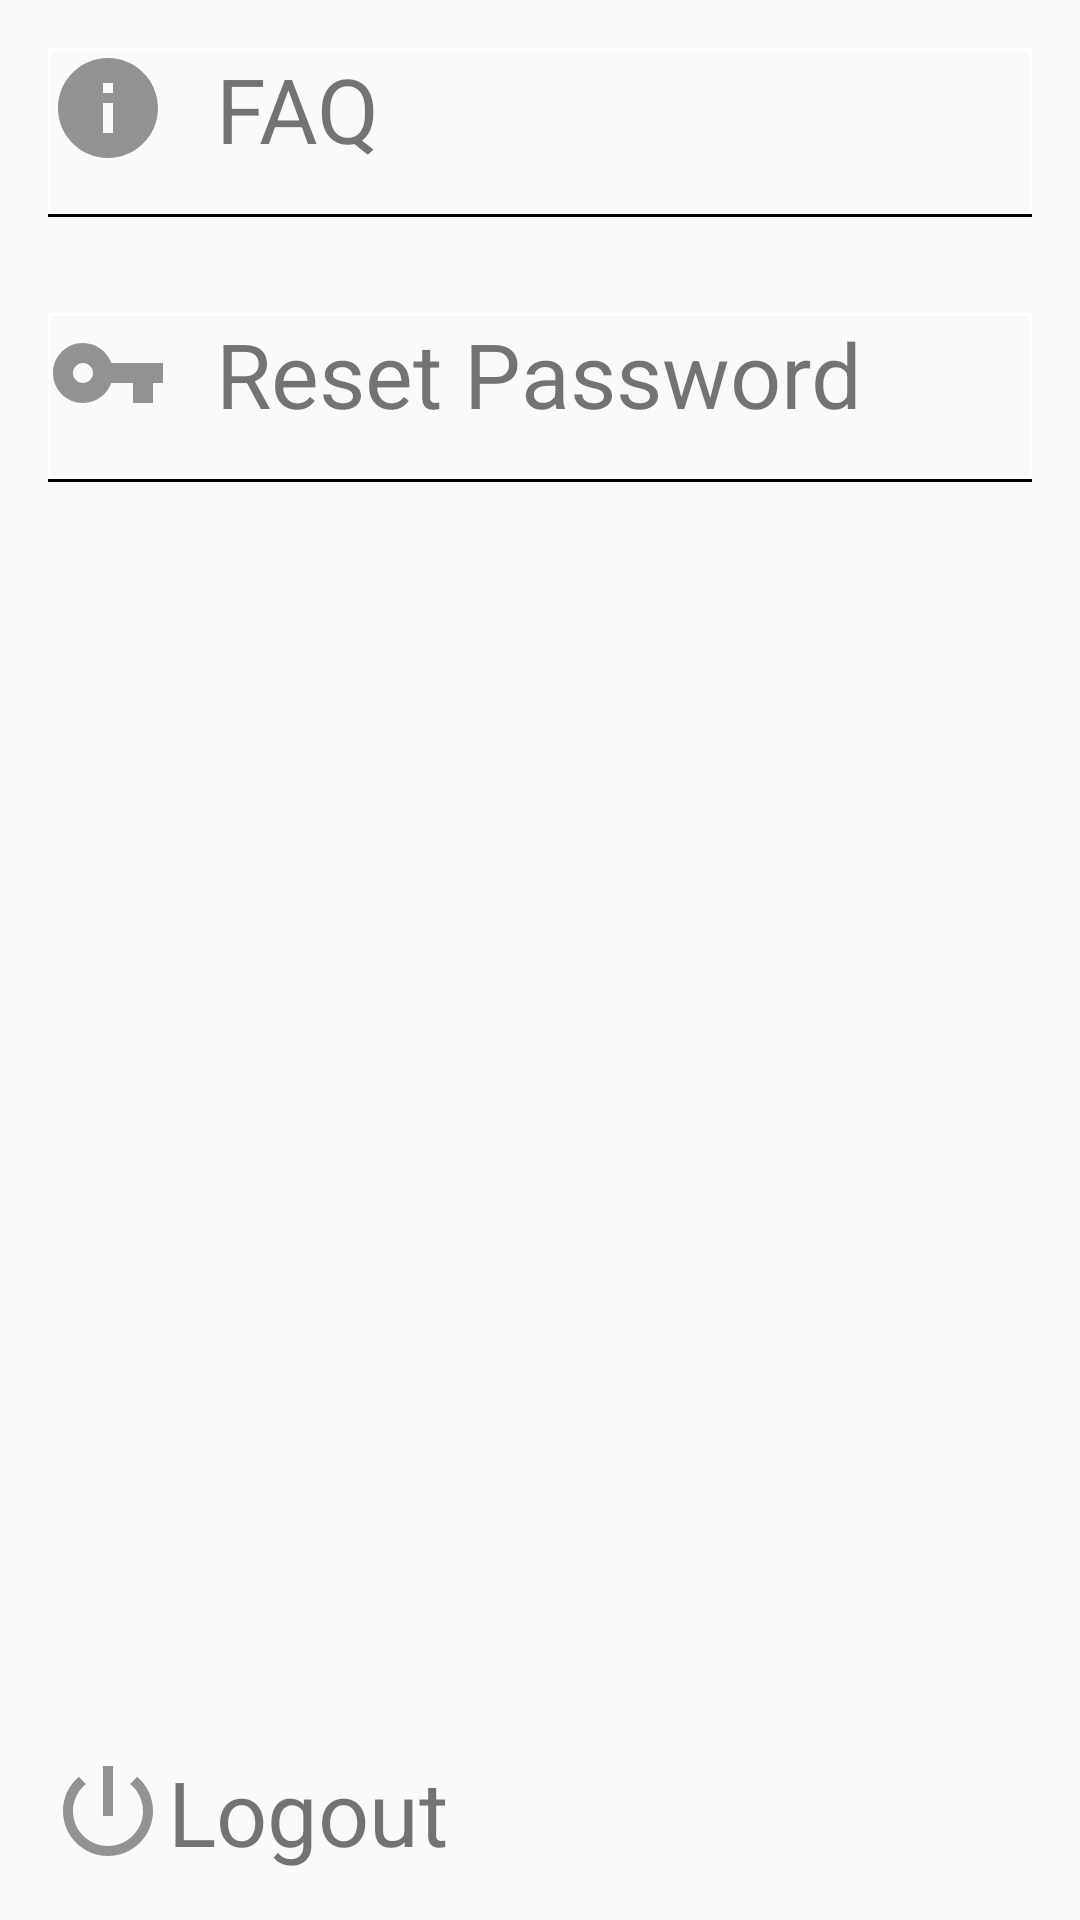

Icon bounding boxes for this 1080px x 1920px phone screenshot, format (x1, y1, x2, y2):
key: (53, 343, 163, 403)
power: (63, 1766, 153, 1856)
